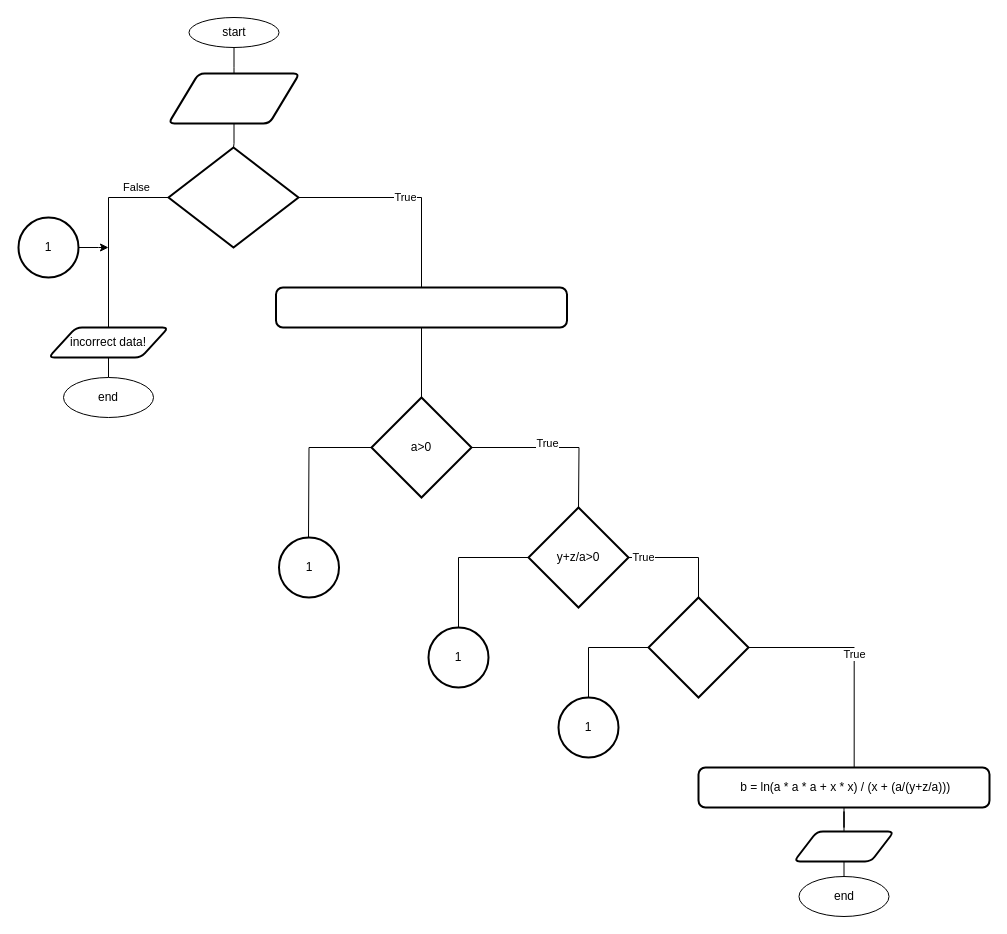
This 1007x934 diagram has some shape labels left out. The centre of each missing label's shape, as x and y in pixels:
"a = 1.0 + (Sin(x) / Sqrt(x * x + x * y * y + x * x * z))" goes at (x=421, y=307).
"a, b" goes at (x=843, y=846).
"x є Z y є Z z є Z" goes at (x=233, y=98).
"x*x+x*y*y+x*x*z>0" goes at (x=233, y=197).
"x+(a/(y+z/a))>0" goes at (x=698, y=647).
